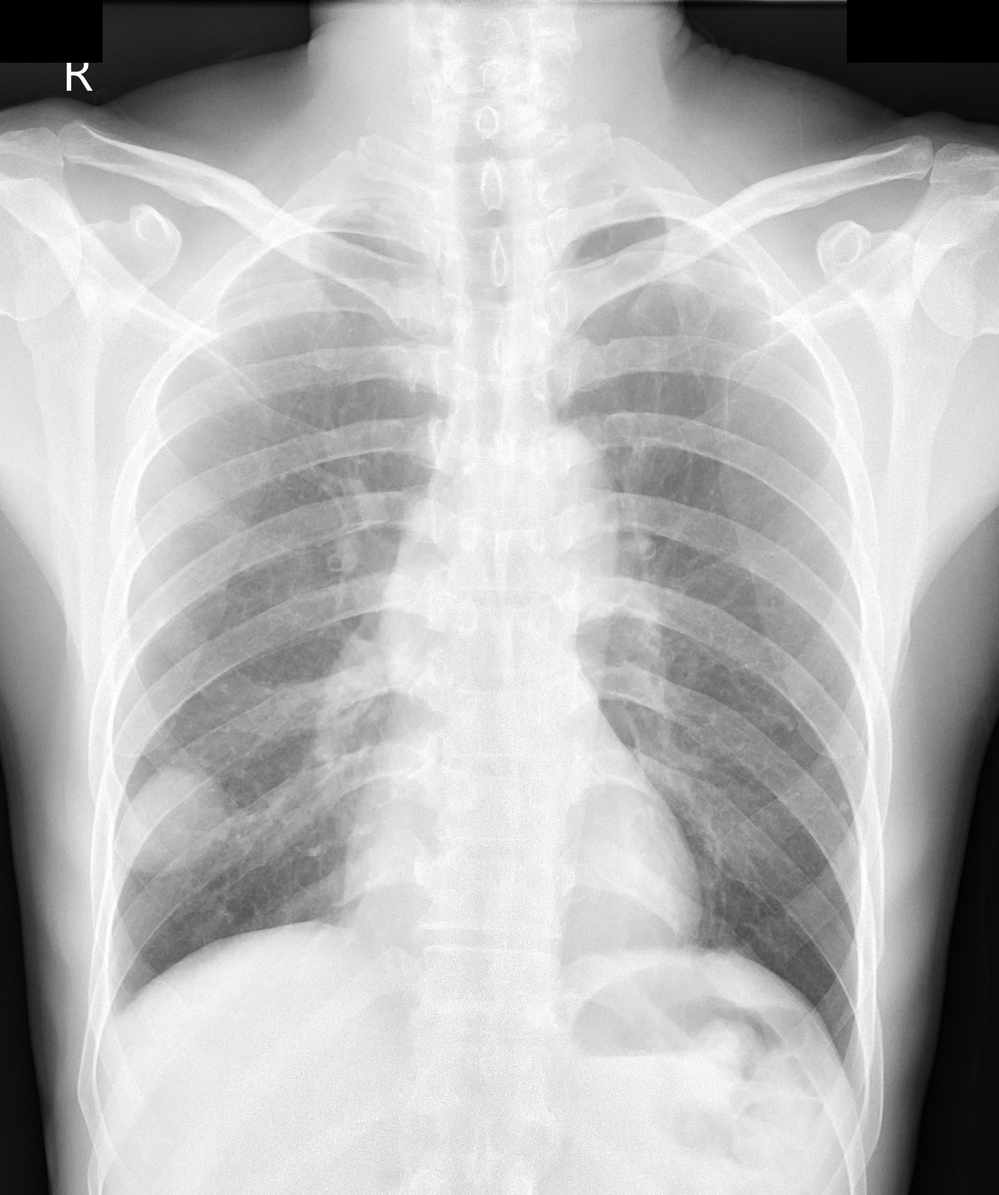Aortic enlargement: (502, 424, 615, 618)
